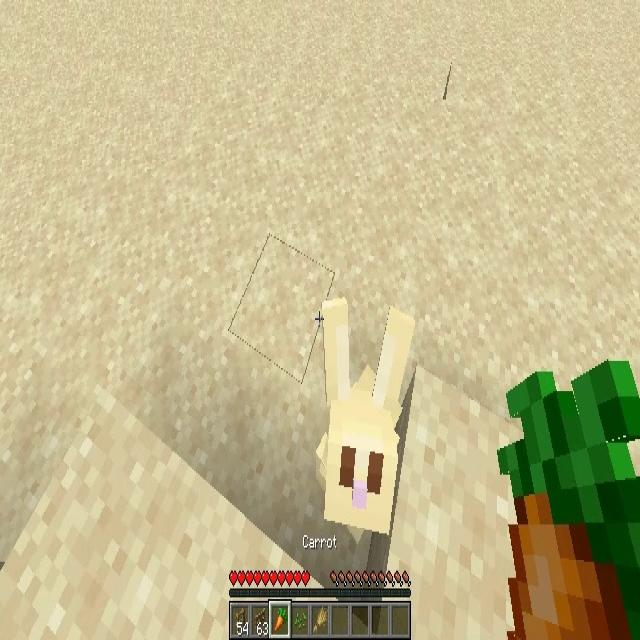rabbit: (321, 301, 409, 535)
